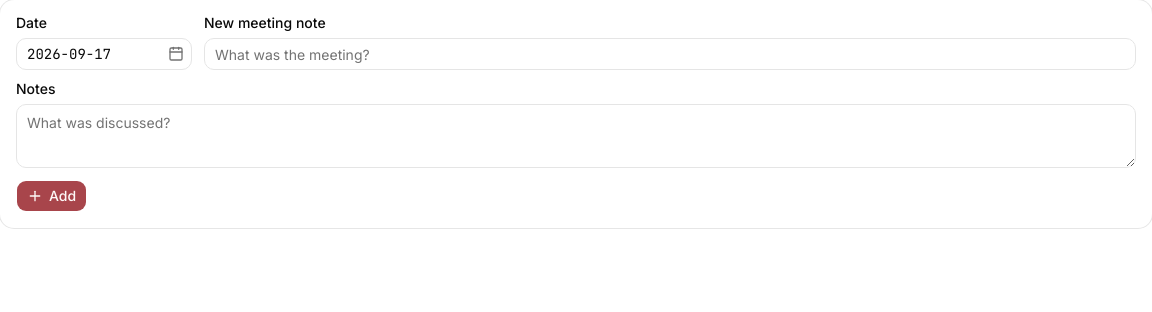
Test: MeetingNoteCapture › shows a field error on invalid input
Click the button "Add" at (52, 196), box [16,180,87,212]
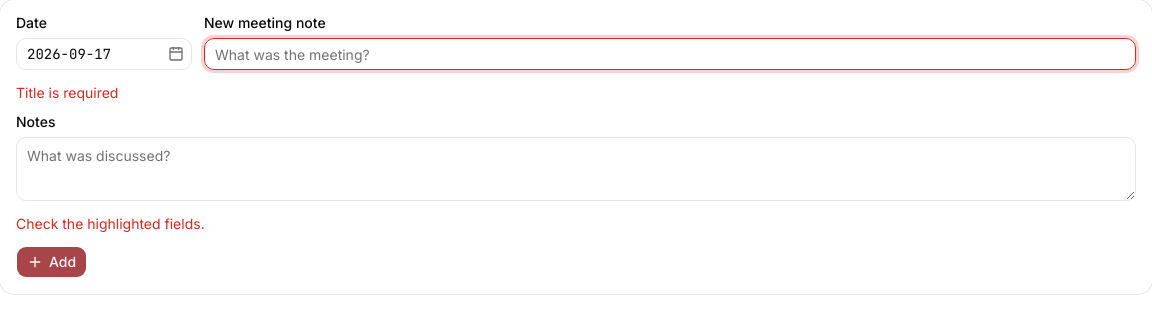
Expected: the text "Title is required" is shown, [16,84,118,101]
